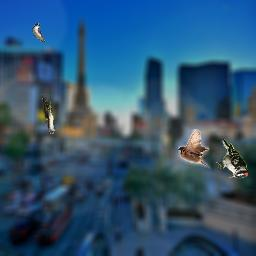Cuckoo: (41, 94, 56, 134)
Sparrow: (178, 129, 211, 169)
Swallow: (32, 23, 46, 42)
Woodpecker: (216, 139, 248, 179)
